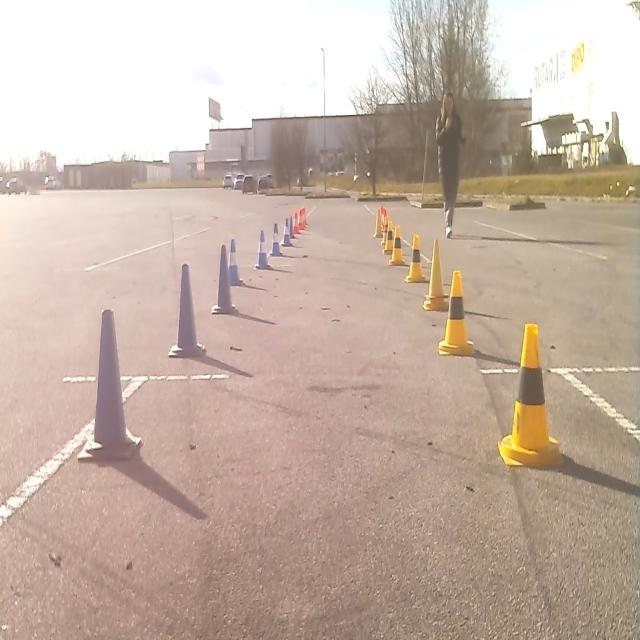blue_cone: (77, 304, 143, 464), (167, 259, 206, 359), (211, 246, 236, 315), (225, 239, 243, 286), (254, 230, 271, 271), (270, 224, 283, 256), (283, 218, 292, 246)
orange_cone: (298, 208, 308, 230), (293, 212, 300, 234)
yellow_cone: (497, 320, 562, 470), (438, 267, 474, 357), (422, 236, 449, 311), (404, 231, 425, 283), (388, 223, 405, 266), (373, 208, 383, 238), (381, 217, 390, 246)
